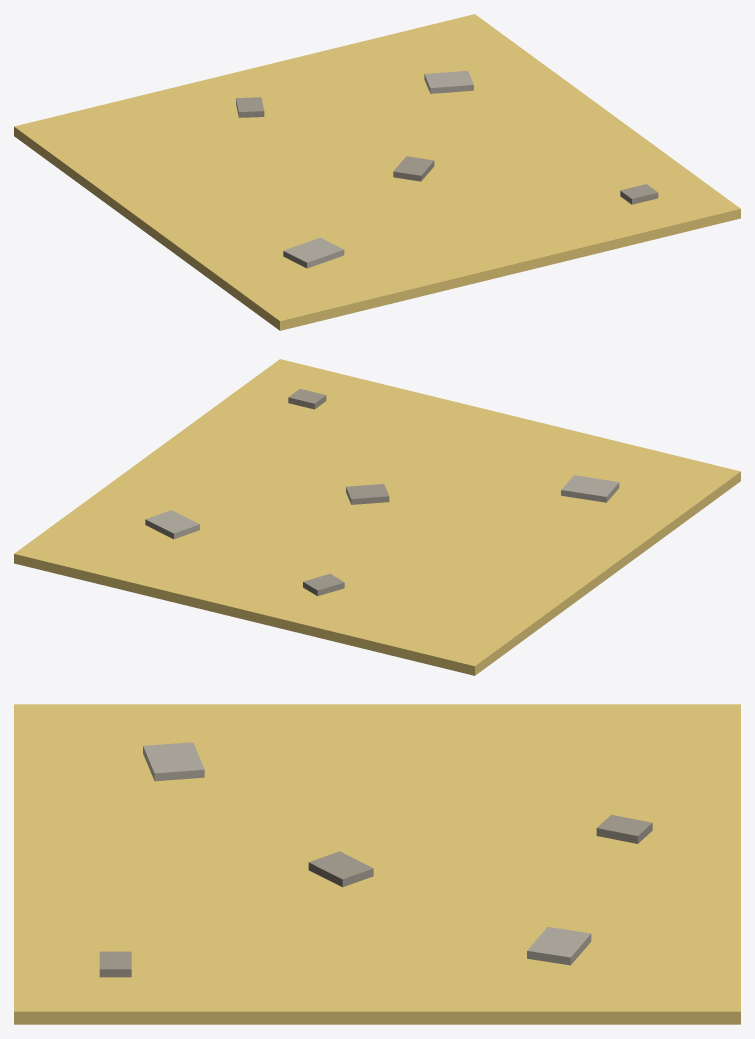
Rendered from Road1-lvl1.fbx.
3 views of the same model, one above another, from view 1: azimuth 30°, elevation 25°; view 2: azimuth 150°, elevation 25°; view 3: azimuth 270°, elevation 25° (orthographic). The views are drawn at different scales.
Visible parts, largest first — view 1: Road1-lvl1; view 2: Road1-lvl1; view 3: Road1-lvl1.
Part boxes in pixels (x1,y1,x2,y2): Road1-lvl1: [14, 14, 740, 330]; Road1-lvl1: [14, 359, 740, 675]; Road1-lvl1: [14, 704, 740, 1024].
Bounding box in the file's own units: 1 × 0.032 × 1.
